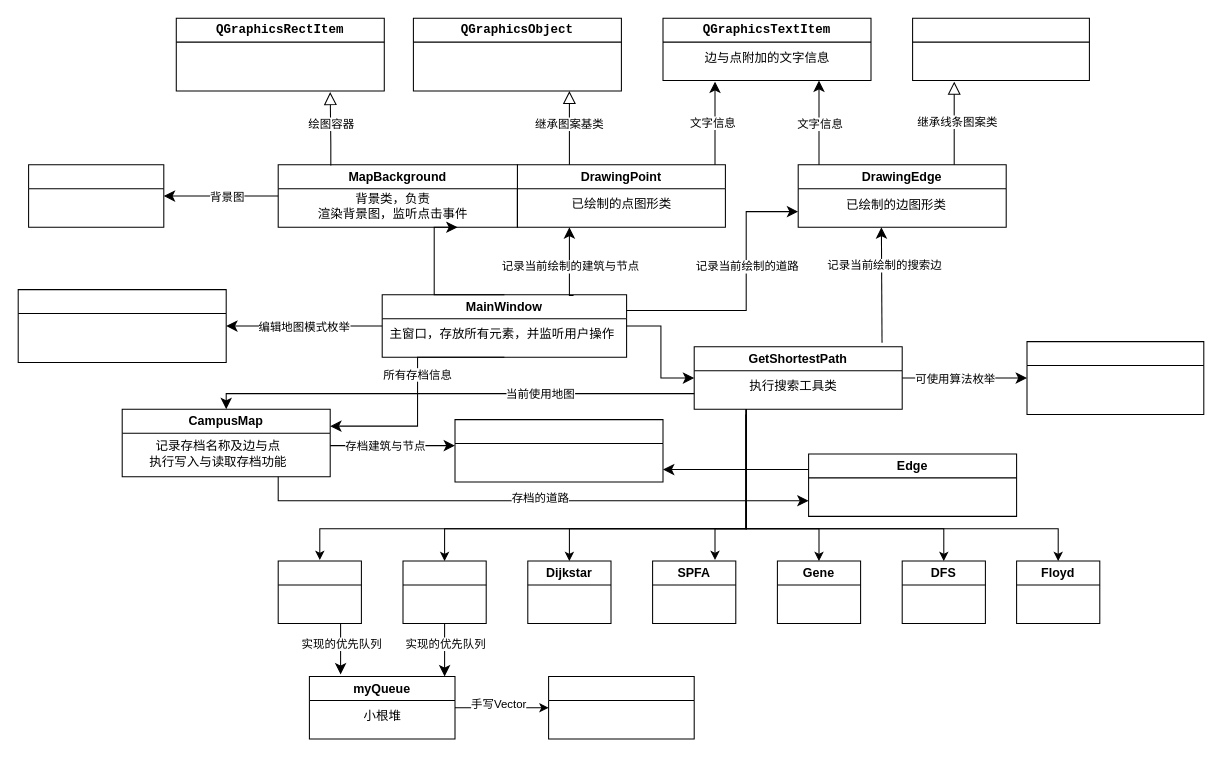
The diagram is 1222 pixels wide and 757 high, and some of its shapes have lost their labels. Each missing label, with the centre of its shape:
ASstar: point 319,591
enum ModifyingOptions: point 121,325
enum SearchAlgorithm: point 1115,377
Heap: point 444,591
Point: point 558,450
QGraphicsLineItem: point 1000,49
QGraphicsPixmapItem: point 96,195
Vector: point 621,707
